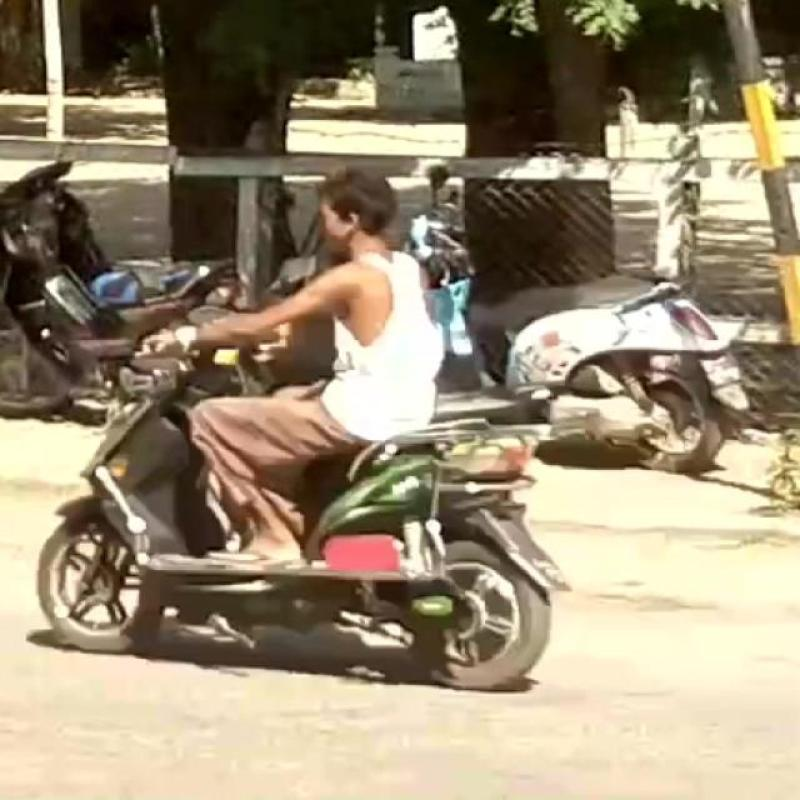nohelmet: (294, 155, 432, 261)
